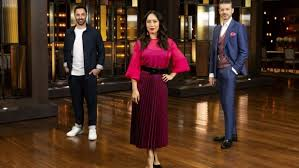Caution: (124, 1, 248, 168), (63, 5, 187, 168)
